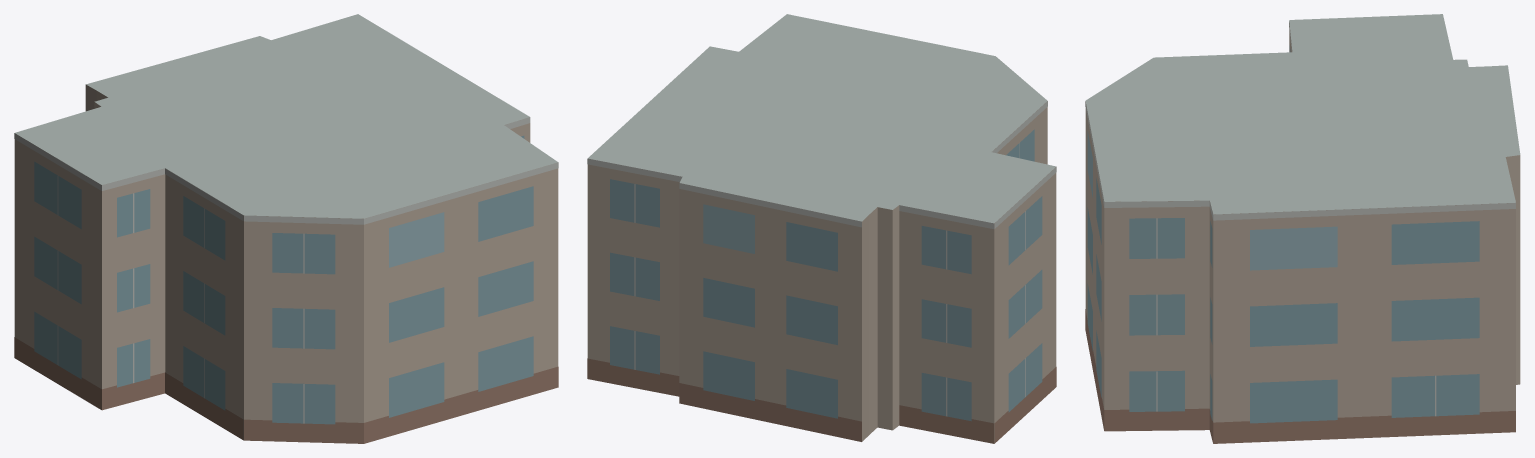
Rendered from survey-upis-32870677.glb.
The picture shows the model from 3 angles, left to right: view 1: azimuth 30°, elevation 25°; view 2: azimuth 150°, elevation 25°; view 3: azimuth 270°, elevation 25°; orthographic projection. The views are drawn at different scales.
Parts seen in each view (by area): view 1: survey-upis-32870677.tmp; view 2: survey-upis-32870677.tmp; view 3: survey-upis-32870677.tmp.
Boxes of the visible parts, box(x1,y1,x2,y2) form: survey-upis-32870677.tmp: box(14, 14, 558, 443); survey-upis-32870677.tmp: box(587, 14, 1056, 443); survey-upis-32870677.tmp: box(1085, 14, 1520, 443).
Size of the model in its own units: 17.16 by 9.15 by 15.73.
